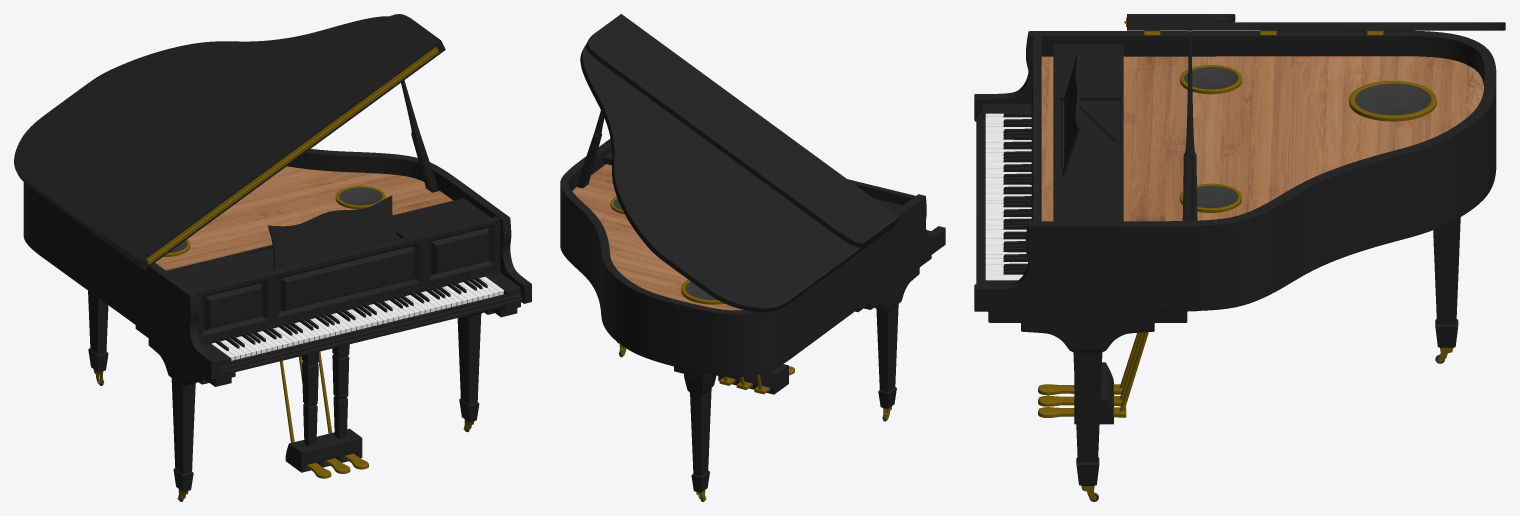
The model's file is grand_piano.glb.
The picture shows the model from 3 angles, left to right: view 1: azimuth 30°, elevation 25°; view 2: azimuth 150°, elevation 25°; view 3: azimuth 270°, elevation 25°; orthographic projection. The views are drawn at different scales.
Visible parts, largest first — view 1: Cube, Cube.015, Cube.004, Cube.001, inner, Cube.008, Cube.007, Cube.005, Cube.010, white_keys, Cube.003, black_keys (+7 smaller); view 2: Cube, Cube.001, Cube.015, inner, Cube.008, Cube.009, Cube.010, Plane, Cube.004, Cube.011; view 3: Cube.001, inner, Cube.005, Cube.008, white_keys, black_keys, Cube, Cube.009, Cube.003, Cube.011, Cube.004, Cylinder.007 (+7 smaller).
Boxes of the visible parts, x1,y1,x2,y2 form: Cube: (14, 16, 445, 270); Cube.015: (101, 14, 443, 265); Cube.004: (193, 216, 500, 345); Cube.001: (23, 149, 531, 379); inner: (155, 166, 452, 270); Cube.008: (135, 302, 520, 473); Cube.007: (268, 195, 397, 269); Cube.005: (166, 198, 490, 290); Cube.010: (285, 344, 362, 472); white_keys: (211, 276, 504, 360); Cube.003: (203, 273, 522, 375); black_keys: (215, 276, 487, 350); Cube: (580, 44, 896, 312); Cube.001: (560, 138, 945, 376); Cube.015: (586, 14, 898, 247); inner: (572, 164, 743, 310); Cube.008: (855, 255, 931, 392); Cube.009: (674, 366, 716, 475); Cube.010: (718, 364, 788, 394); Plane: (576, 111, 604, 188); Cube.004: (847, 179, 915, 205); Cube.011: (719, 366, 794, 394); Cube.001: (974, 30, 1496, 311); inner: (1041, 56, 1484, 221); Cube.005: (1053, 44, 1123, 221); Cube.008: (988, 311, 1196, 462); white_keys: (985, 113, 1031, 280); black_keys: (1003, 112, 1031, 274); Cube: (1127, 22, 1505, 30); Cube.009: (1433, 217, 1460, 324); Cube.003: (976, 104, 1031, 284); Cube.011: (1038, 332, 1148, 417); Cube.004: (1031, 37, 1041, 221); Cylinder.007: (1355, 83, 1430, 115).
Bounding box in the file's own units: 4.65 × 5.16 × 5.18.
Materials: 5 (1 with a texture image).
